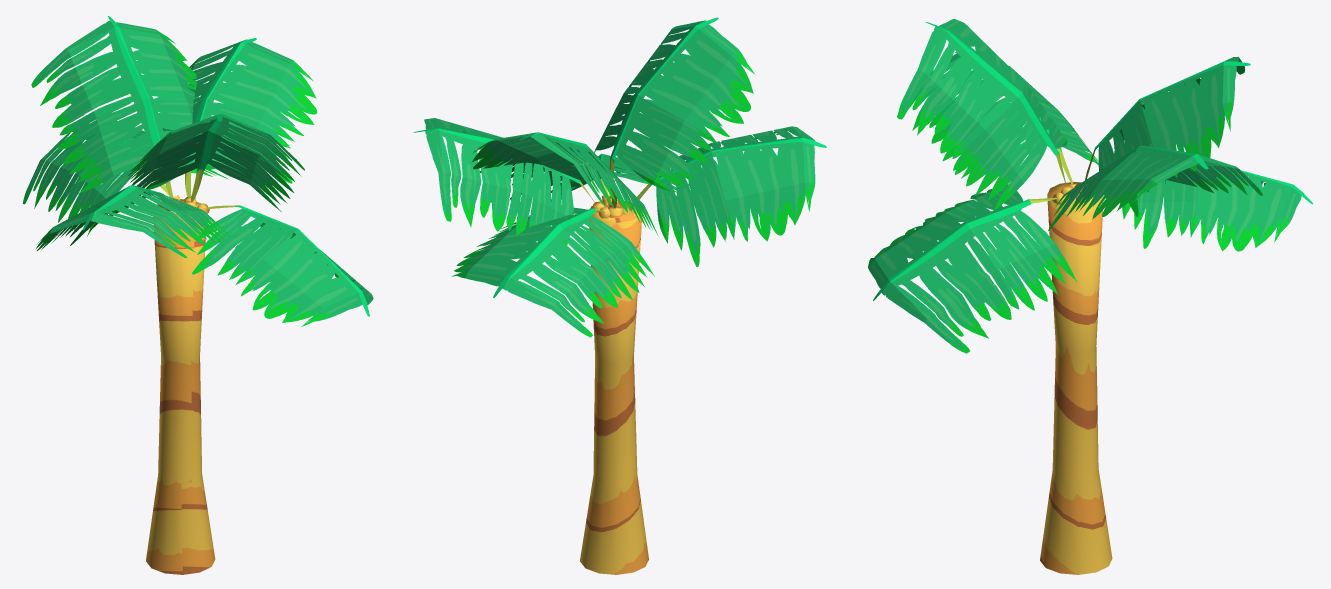
File: palmera_3.fbx
3 views of the same model, side by side, from view 1: azimuth 30°, elevation 25°; view 2: azimuth 150°, elevation 25°; view 3: azimuth 270°, elevation 25° (orthographic). The views are drawn at different scales.
Visible parts, largest first — view 1: Cylinder.028; view 2: Cylinder.028; view 3: Cylinder.028.
Boxes of the visible parts, x1,y1,x2,y2 form: Cylinder.028: (23, 16, 373, 574); Cylinder.028: (413, 17, 826, 574); Cylinder.028: (868, 19, 1312, 574).
Bounding box in the file's own units: 1037 × 1349 × 1072.
